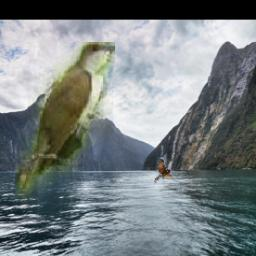Cuckoo: (15, 43, 115, 214)
Swallow: (154, 158, 180, 185)
